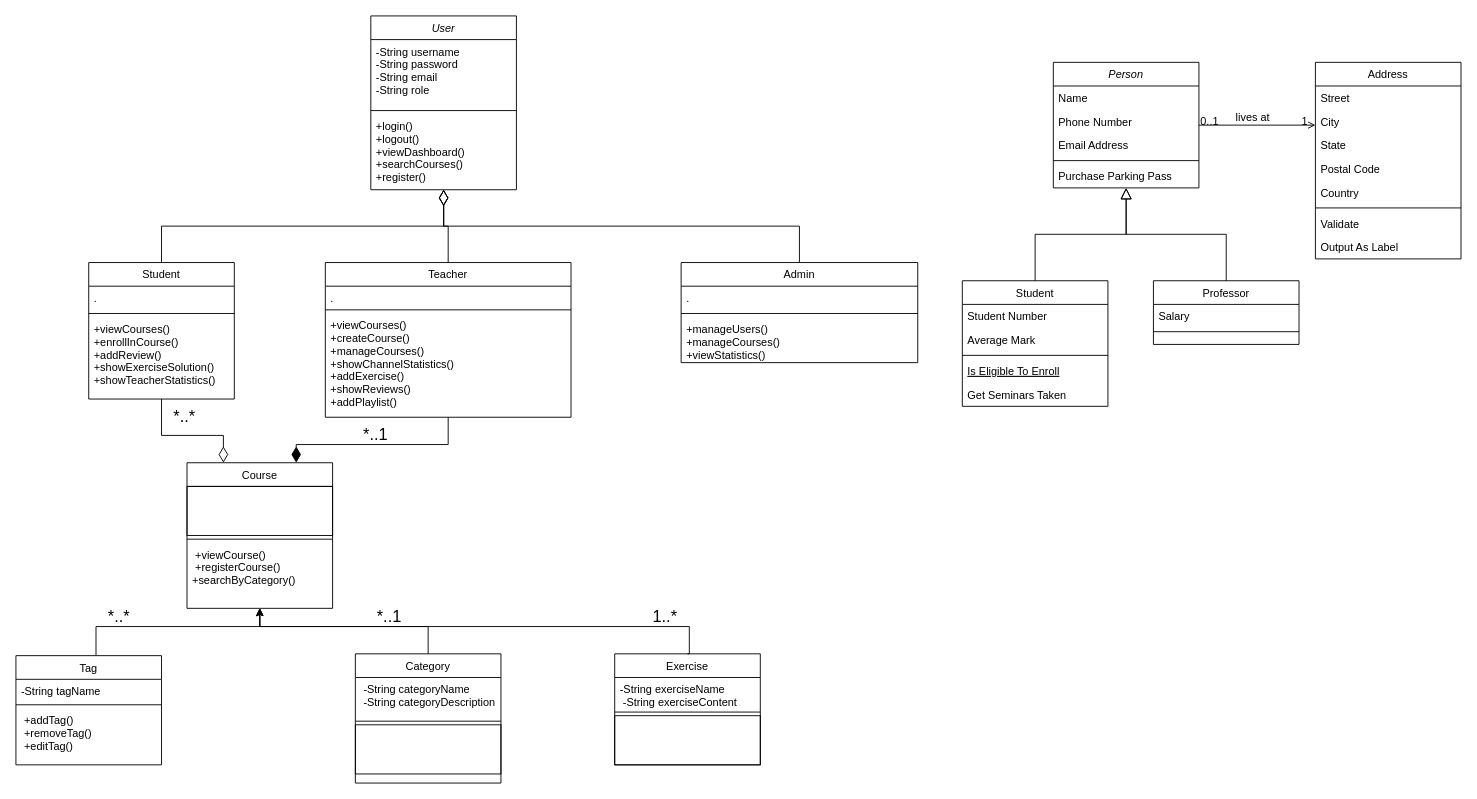
Image size: 1477x799. Some labels were removed from this diagram. Each missing label, with the centre of its shape:
+addCategory() +editCategory() +deleteCategory(): point 427,749
+createExercise() +editExercise() +deleteExercise(): point 687,740
-String courseName -String courseDescription -String category: point 259,510
